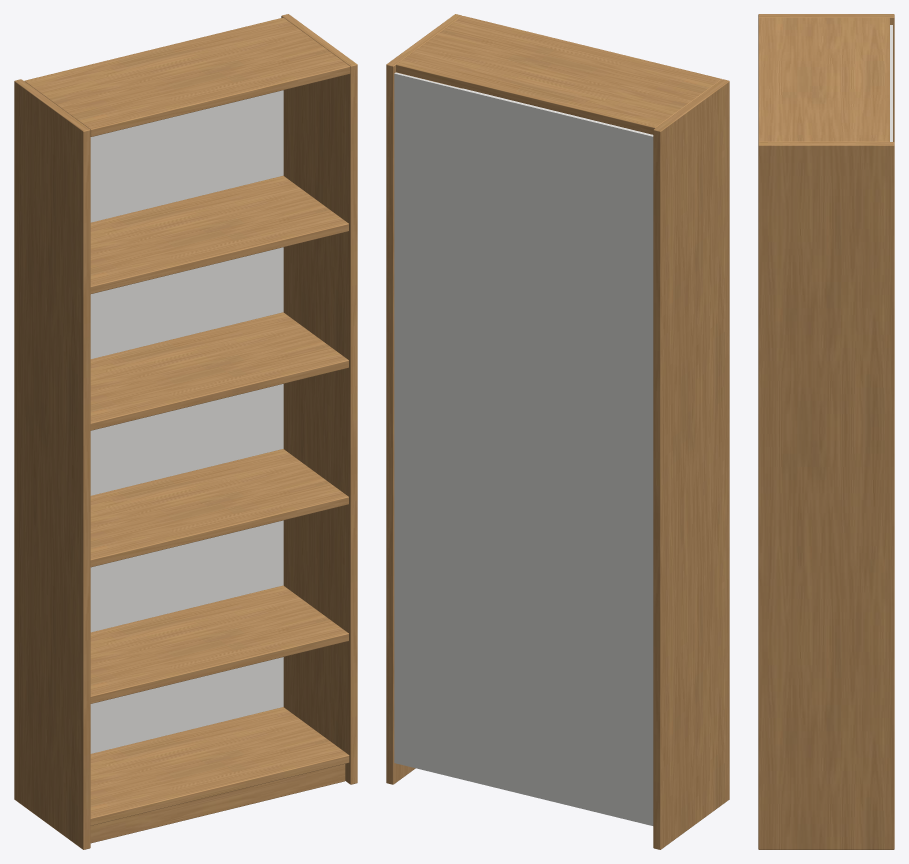
The model's file is bookcase.glb.
3 renders of one model, left to right at view 1: azimuth 30°, elevation 25°; view 2: azimuth 150°, elevation 25°; view 3: azimuth 270°, elevation 25°, orthographic.
Visible parts, largest first — view 1: bookcase_frame, bookcase, bookcase_back; view 2: bookcase_back, bookcase_frame; view 3: bookcase_frame, bookcase_back.
Boxes of the visible parts, bbox=[...] form: bookcase_frame: bbox=[14, 14, 357, 849]; bookcase: bbox=[90, 175, 348, 703]; bookcase_back: bbox=[90, 90, 283, 753]; bookcase_back: bbox=[394, 72, 653, 825]; bookcase_frame: bbox=[386, 14, 729, 849]; bookcase_frame: bbox=[758, 14, 894, 849]; bookcase_back: bbox=[890, 25, 892, 141].
Size of the model in its own units: 0.8 by 2 by 0.35.
3 materials, 2 textured.
